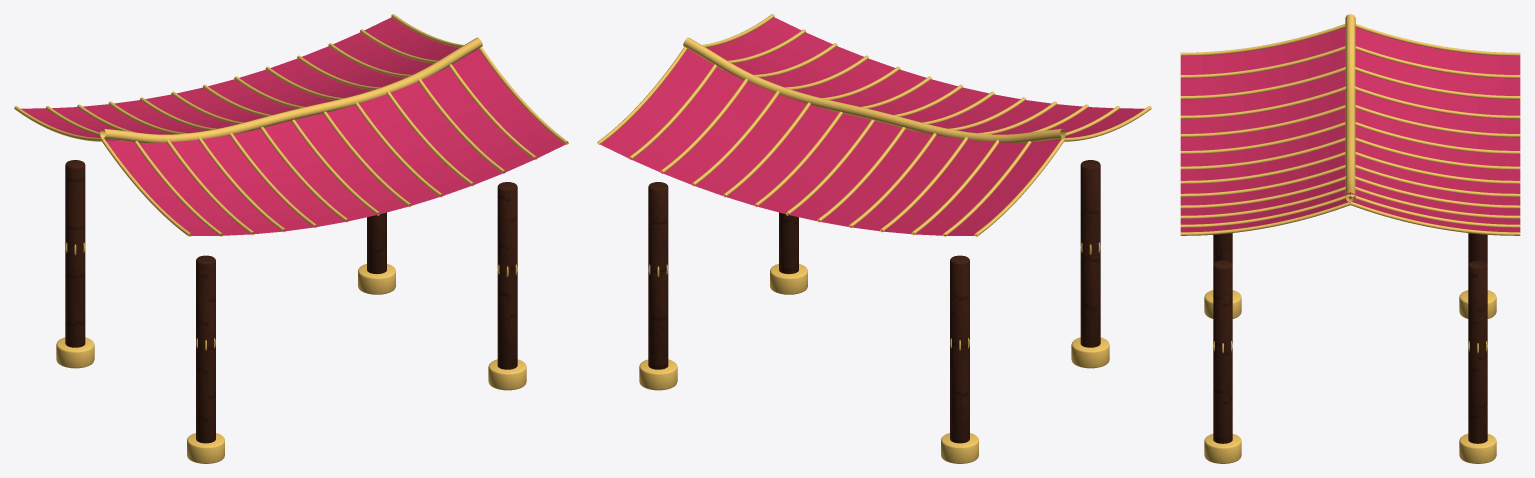
Rendered from pavilion.glb.
3 views of the same model, side by side, from view 1: azimuth 30°, elevation 25°; view 2: azimuth 150°, elevation 25°; view 3: azimuth 270°, elevation 25° (orthographic). The views are drawn at different scales.
Visible parts, largest first — view 1: Swept tiled roof, Column foot, Column; view 2: Swept tiled roof, Column foot, Column; view 3: Swept tiled roof, Column foot, Column.
Boxes of the visible parts, x1,y1,x2,y2 form: Swept tiled roof: (21, 17, 566, 235); Column foot: (14, 14, 568, 463); Column: (65, 160, 517, 443); Swept tiled roof: (599, 17, 1144, 235); Column foot: (597, 14, 1151, 463); Column: (648, 160, 1100, 443); Swept tiled roof: (1180, 27, 1520, 232); Column foot: (1180, 14, 1520, 463); Column: (1213, 233, 1487, 443).
Bounding box in the file's own units: 10.09 × 7.31 × 8.
Materials: 4 (1 with a texture image).
